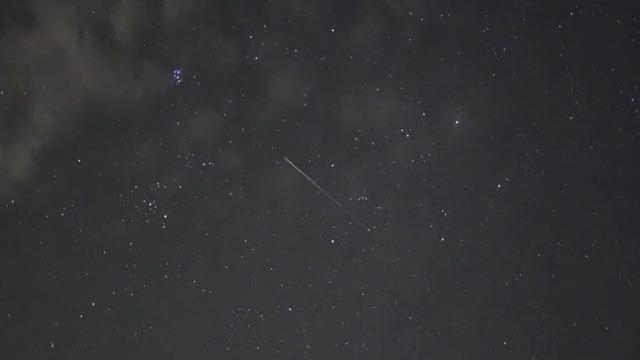meteorite: (267, 154, 356, 208)
